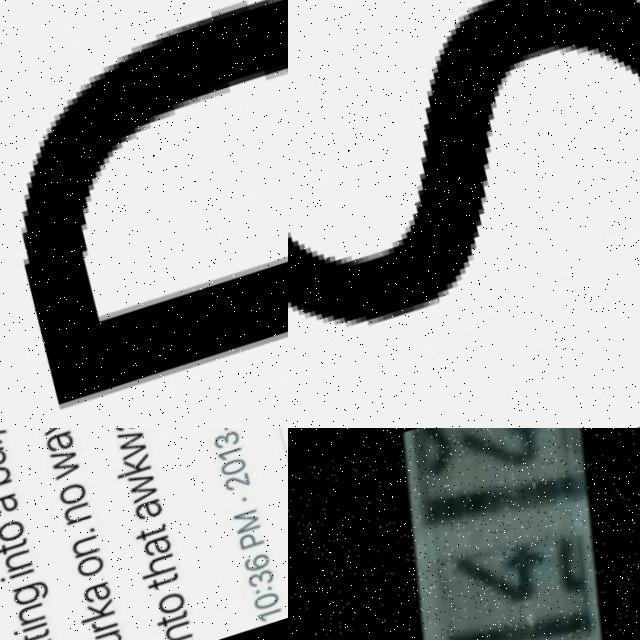2: (251, 550, 280, 571)
4: (426, 510, 584, 640), (436, 428, 573, 503)
A: (90, 578, 124, 605), (140, 495, 174, 521), (49, 428, 83, 453), (149, 532, 181, 558), (0, 491, 28, 515), (0, 442, 17, 470)
B: (0, 461, 22, 492)
D: (0, 0, 288, 422)
G: (19, 576, 62, 608)
H: (146, 549, 189, 580)
I: (21, 619, 59, 636), (9, 565, 45, 582)
K: (120, 450, 161, 478), (86, 596, 128, 623)
M: (239, 506, 271, 534)
N: (69, 499, 101, 525), (12, 548, 43, 573), (25, 601, 57, 625), (78, 532, 110, 556), (173, 618, 204, 640)
O: (3, 516, 37, 545), (83, 551, 116, 578), (63, 480, 96, 507), (165, 588, 198, 615)
P: (246, 527, 275, 549)
R: (102, 615, 129, 633), (0, 430, 9, 451)
S: (288, 0, 640, 428)
T: (155, 570, 191, 591), (143, 520, 178, 541), (2, 537, 38, 557), (164, 608, 200, 628), (27, 626, 62, 640)
U: (103, 626, 135, 640)
W: (53, 445, 90, 481), (132, 468, 169, 503), (120, 428, 155, 458)
Y: (45, 428, 87, 436)
